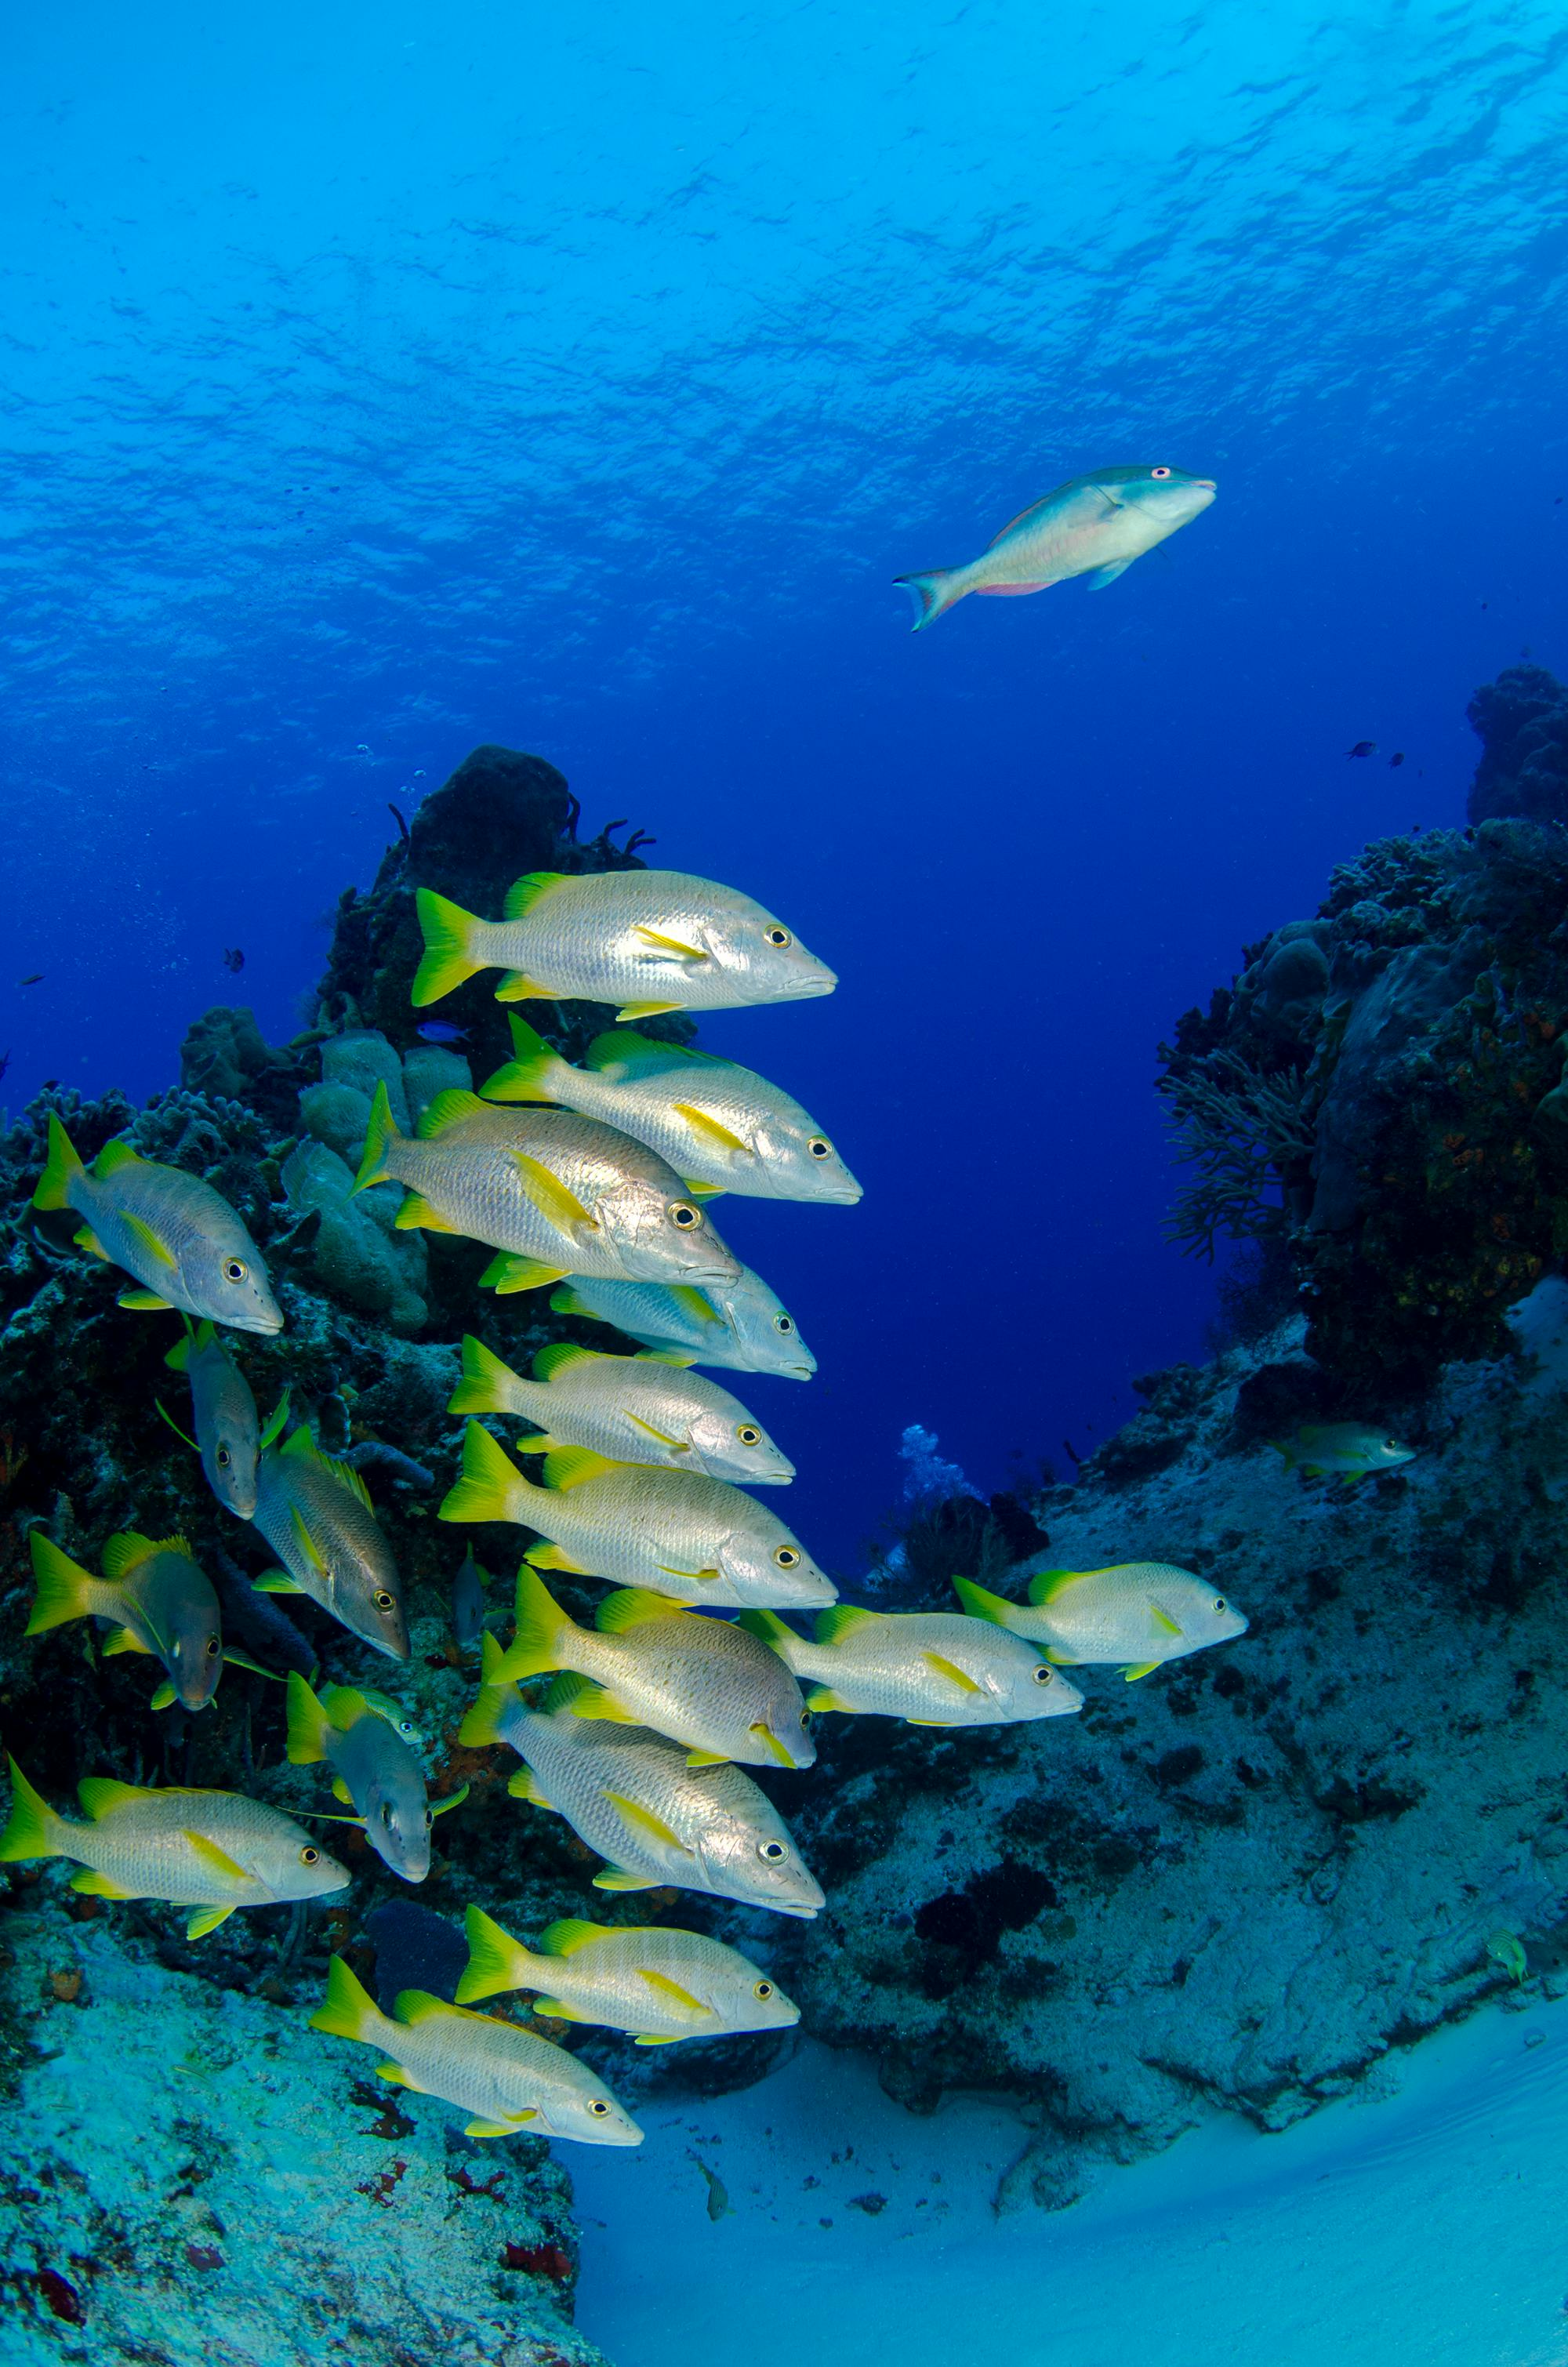fishLarge: (458, 1632, 833, 1923), (434, 1414, 843, 1615), (352, 1086, 739, 1298), (485, 1008, 872, 1212), (308, 1951, 653, 2159), (502, 1561, 823, 1776), (406, 864, 840, 1022), (4, 1756, 355, 1940), (24, 1104, 287, 1338), (891, 455, 1223, 635), (448, 1331, 807, 1496), (448, 1902, 810, 2040), (761, 1599, 1087, 1732), (21, 1517, 226, 1721), (276, 1671, 471, 1886), (249, 1414, 416, 1660), (947, 1561, 1249, 1685), (553, 1270, 823, 1380), (157, 1326, 297, 1527)
fishSmall: (1263, 1417, 1421, 1485)
